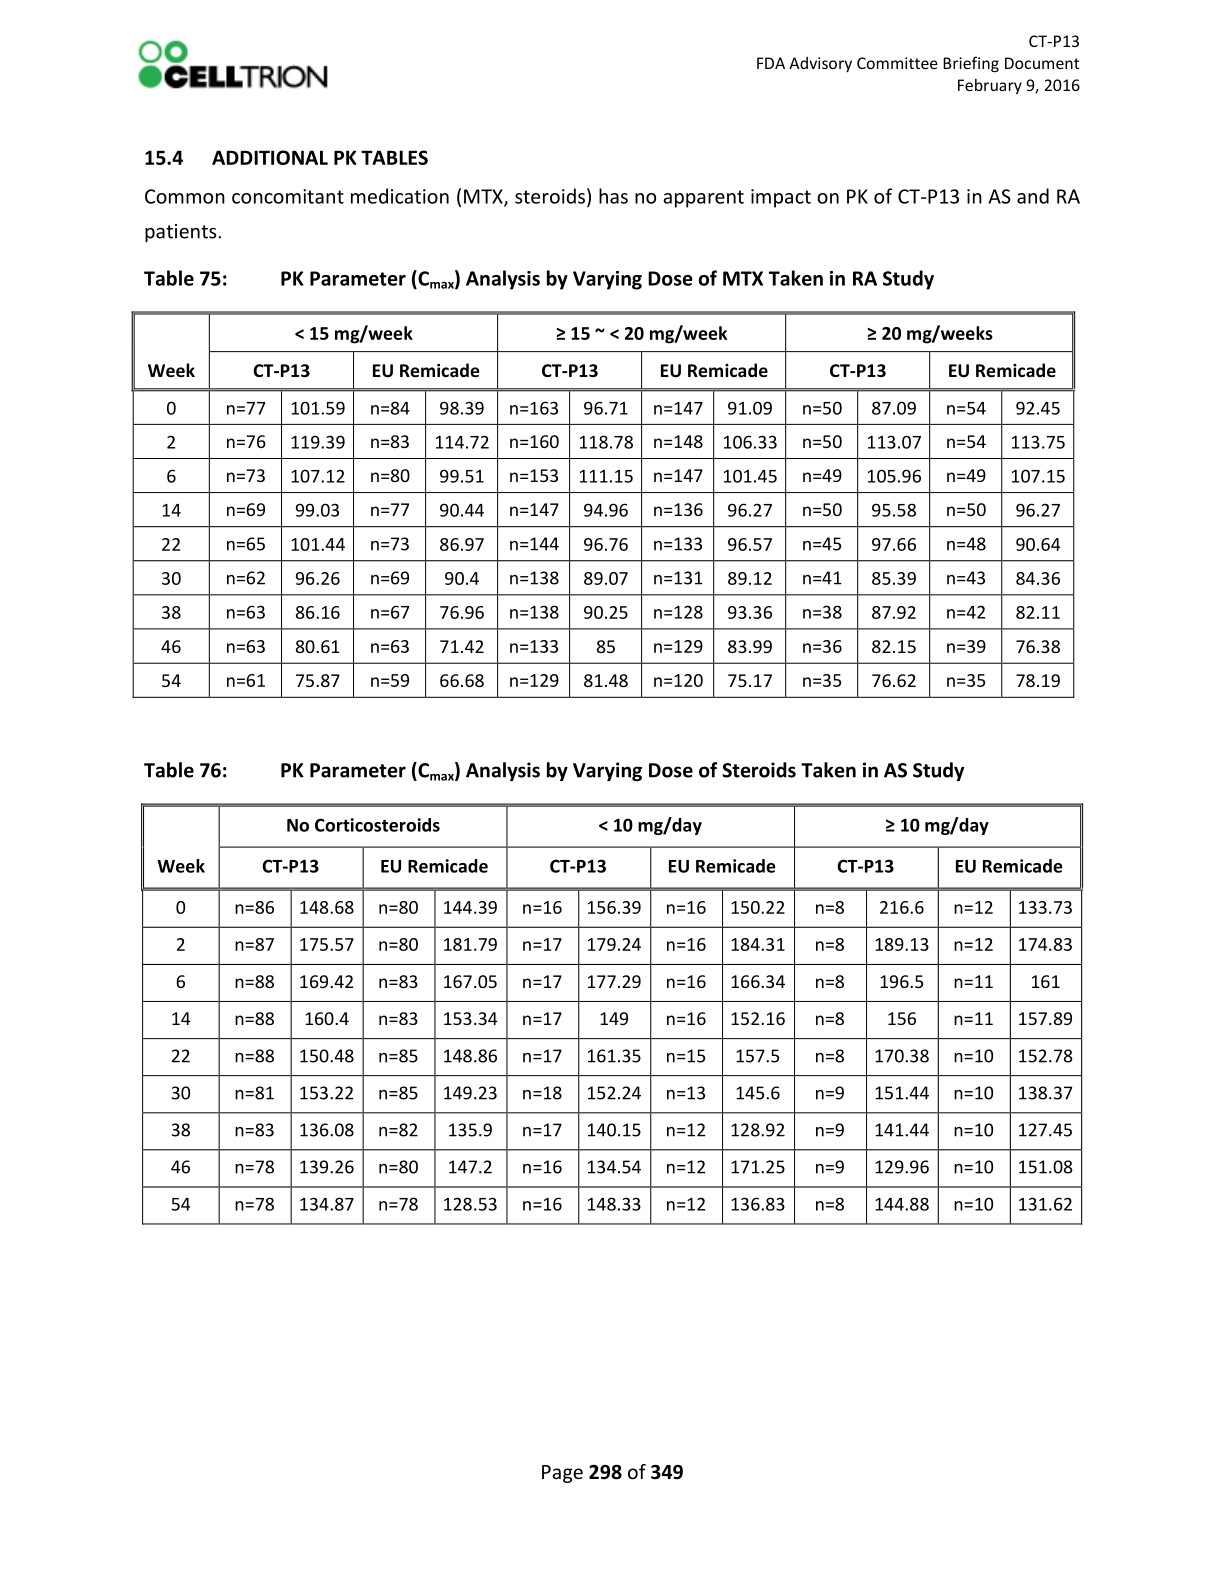merged_cells: (139, 804, 1083, 1227), (130, 310, 1075, 699)
